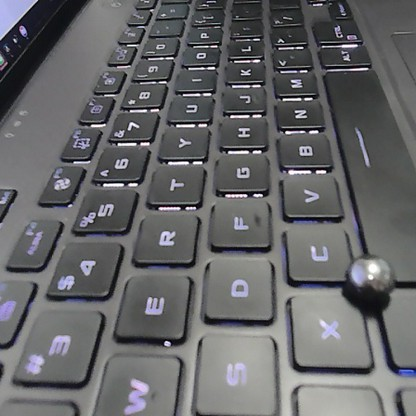ironball: (339, 250, 397, 308)
